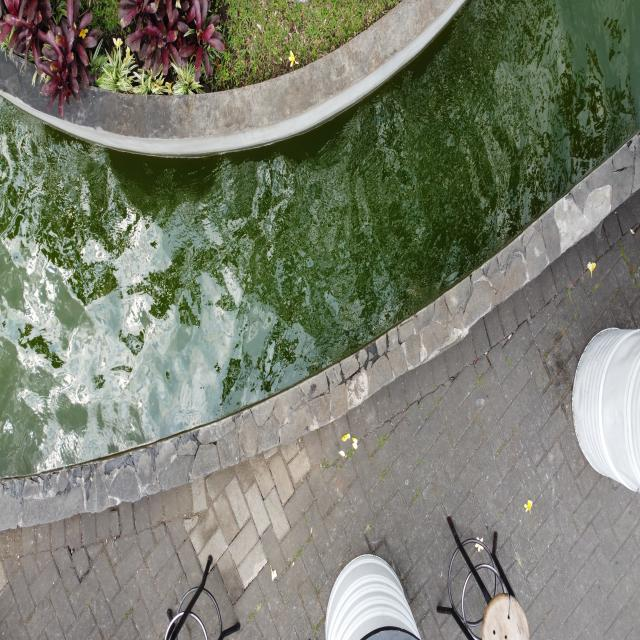Ponds: (3, 1, 640, 533)
